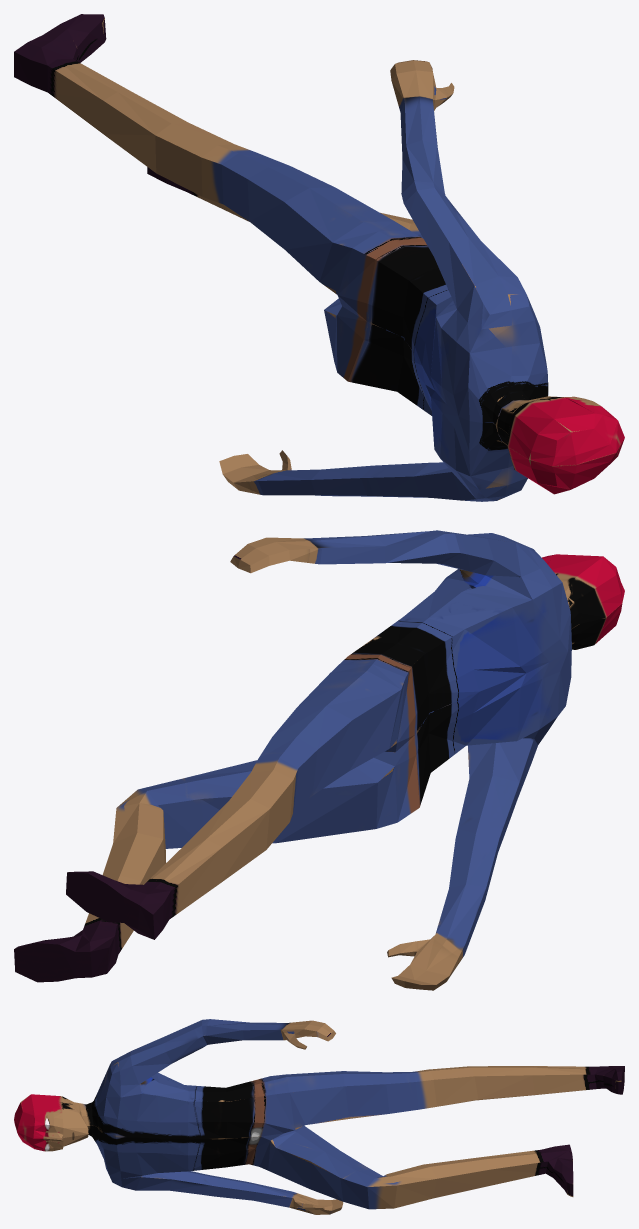
The model's file is mirrorman_000020.obj.
3 views of the same model, one above another, from view 1: azimuth 30°, elevation 25°; view 2: azimuth 150°, elevation 25°; view 3: azimuth 270°, elevation 25° (orthographic). The views are drawn at different scales.
Visible parts, largest first — view 1: mirrorman_Cube.001_Material.001; view 2: mirrorman_Cube.001_Material.001; view 3: mirrorman_Cube.001_Material.001.
Boxes of the visible parts, left/top/right/bottom form: mirrorman_Cube.001_Material.001: left=14, top=14, right=624, bottom=501; mirrorman_Cube.001_Material.001: left=14, top=530, right=624, bottom=990; mirrorman_Cube.001_Material.001: left=14, top=1019, right=624, bottom=1214.
Size of the model in its own units: 0.5688 by 0.7969 by 1.9.
